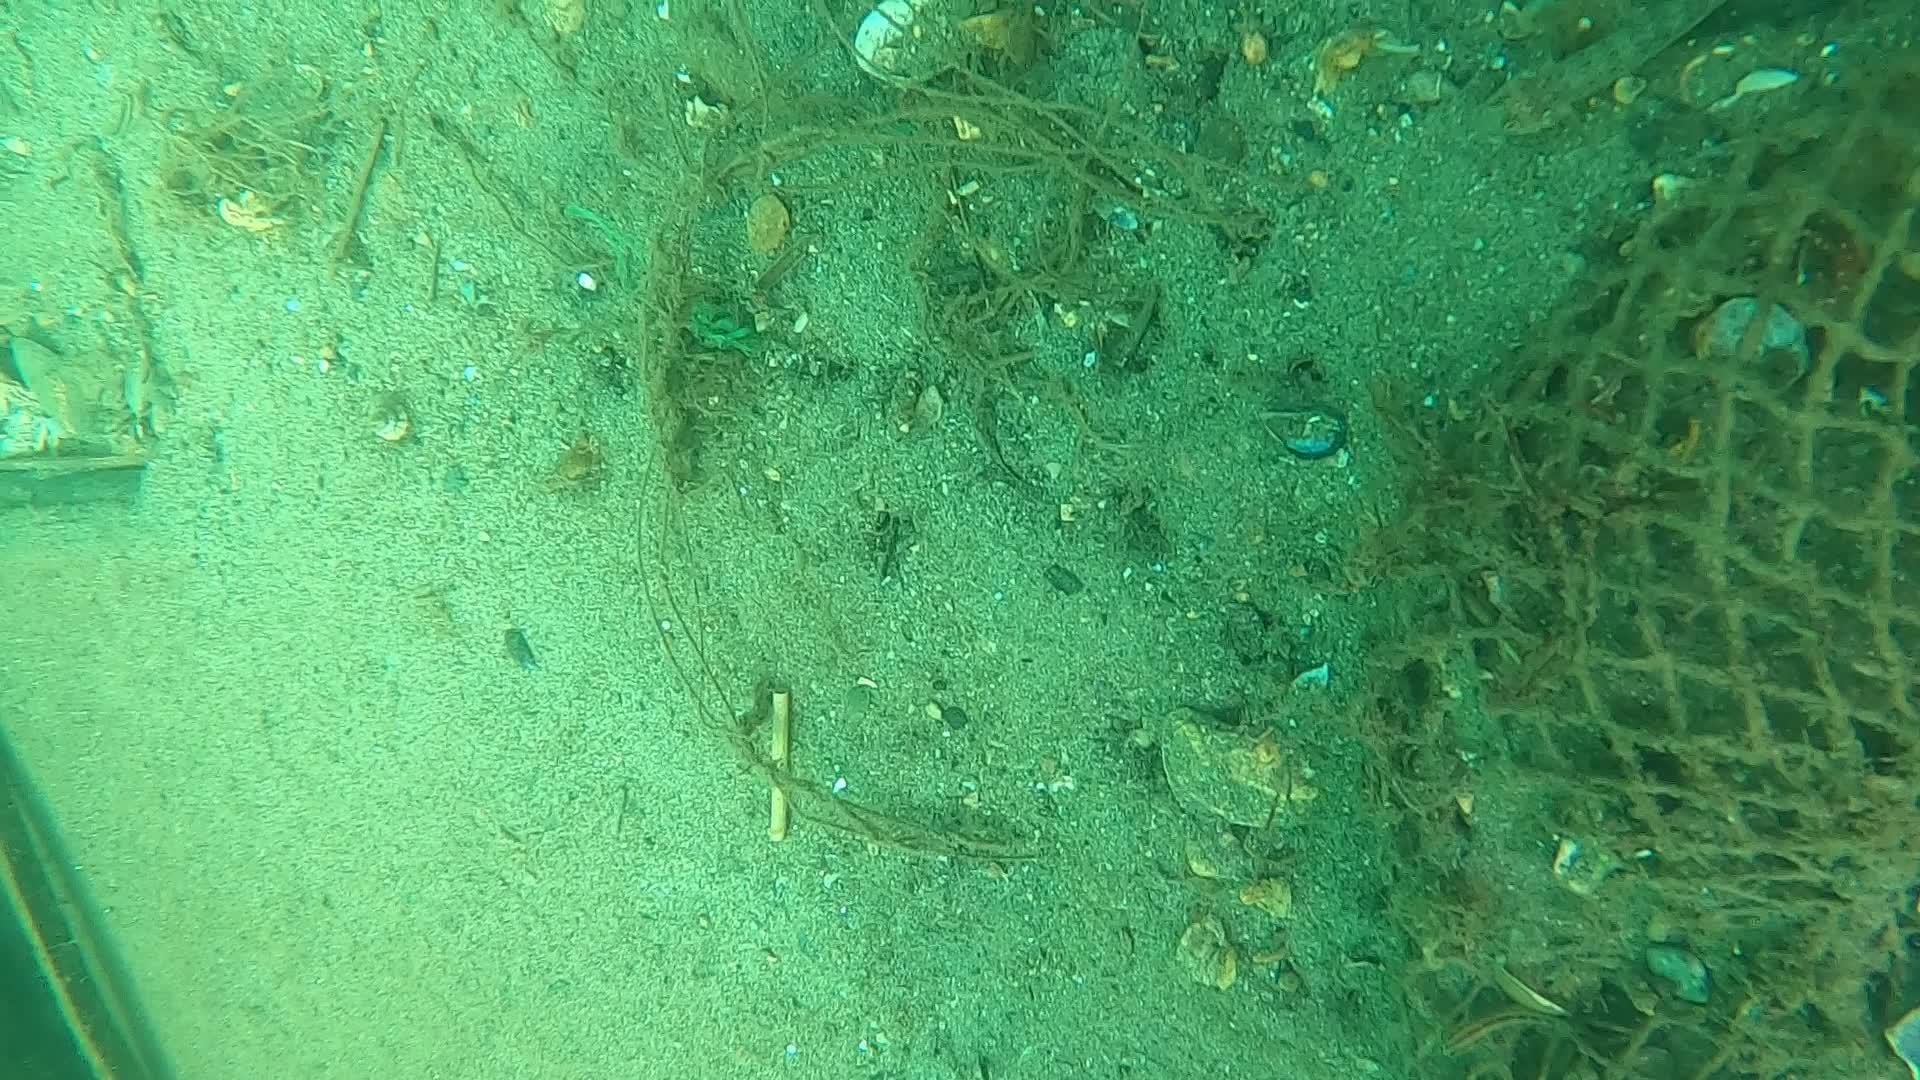fish net: (1357, 53, 1920, 1080)
